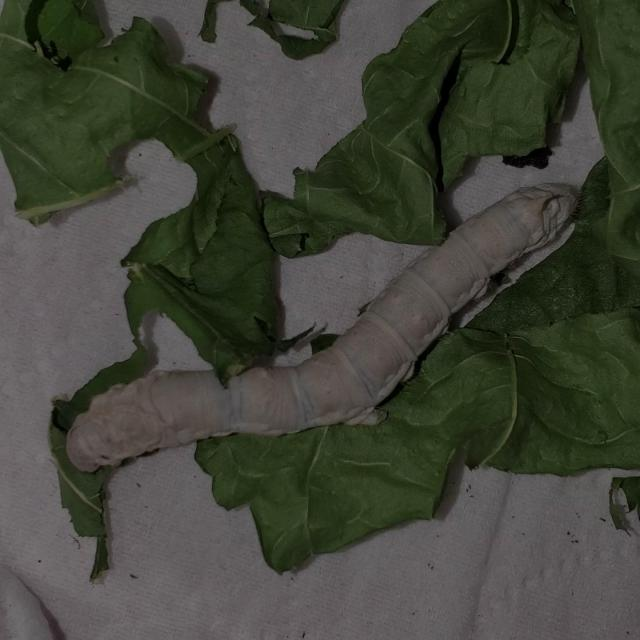Healthy: (51, 164, 593, 486)
